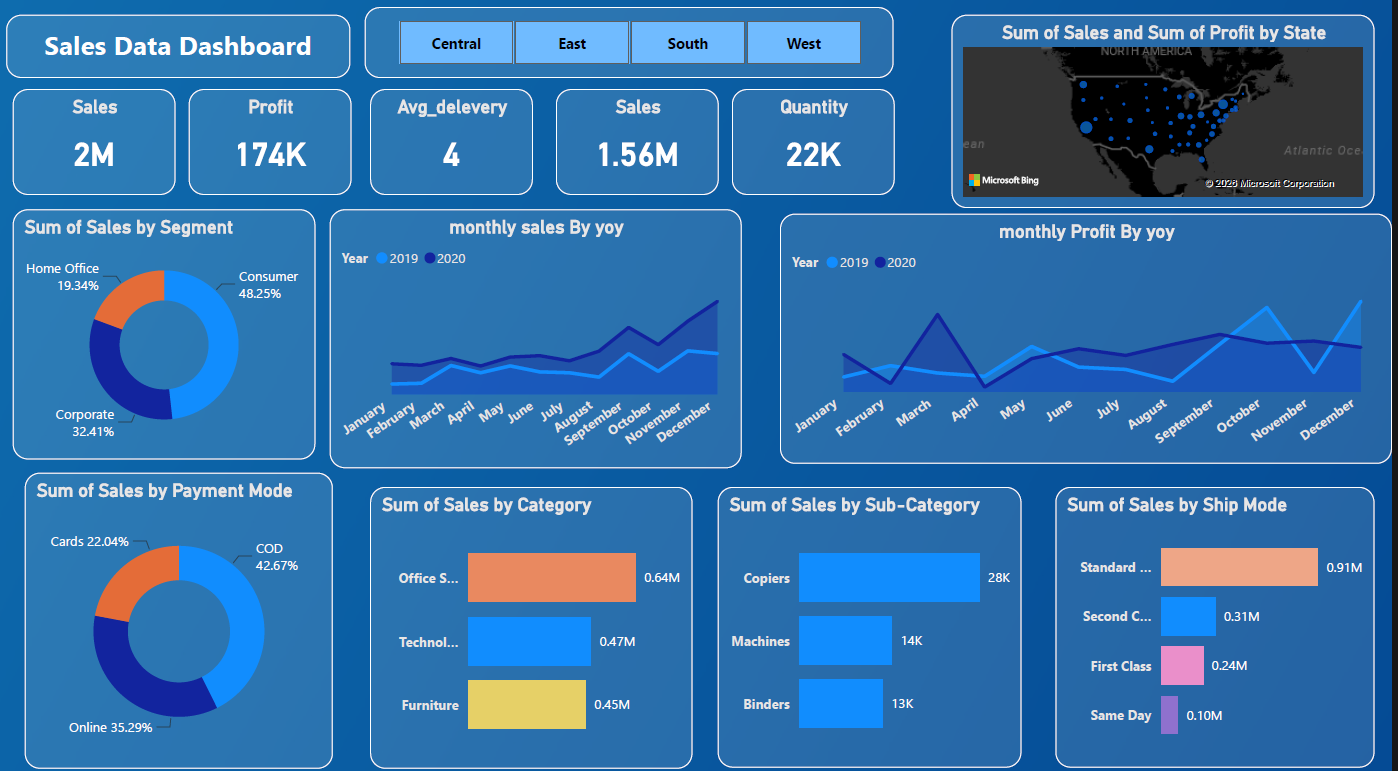

What the dashboard file says about the page in this screenshot:
{"tool":"powerbi","page":{"name":"Page 1","canvas":[1280,720],"ordinal":0},"visuals":[{"type":"clusteredBarChart","fields":{"Category":["SuperStore_Sales_Dataset.Category"],"Y":["Sum(SuperStore_Sales_Dataset.Sales)"]},"box":[345.3,445,294.8,258],"z":0},{"type":"clusteredBarChart","fields":{"Y":["Sum(SuperStore_Sales_Dataset.Sales)"],"Category":["SuperStore_Sales_Dataset.Sub-Category"]},"box":[663.3,445,278.4,256.6],"z":1000},{"type":"clusteredBarChart","fields":{"Category":["SuperStore_Sales_Dataset.Ship Mode"],"Y":["Sum(SuperStore_Sales_Dataset.Sales)"]},"box":[971.8,445,292.1,256.6],"z":2000},{"type":"areaChart","title":"monthly sales By yoy","fields":{"Y":["Sum(SuperStore_Sales_Dataset.Sales)"],"Category":["SuperStore_Sales_Dataset.Order Date.Variation.Date Hierarchy.Month"],"Series":["SuperStore_Sales_Dataset.Order Date.Variation.Date Hierarchy.Year"]},"box":[308.5,191.1,376.7,237.5],"z":3000},{"type":"areaChart","title":"monthly Profit By yoy","fields":{"Category":["SuperStore_Sales_Dataset.Order Date.Variation.Date Hierarchy.Month"],"Series":["SuperStore_Sales_Dataset.Order Date.Variation.Date Hierarchy.Year"],"Y":["Sum(SuperStore_Sales_Dataset.Profit)"]},"box":[720.2,195.4,559.8,229.2],"z":4000},{"type":"donutChart","fields":{"Category":["SuperStore_Sales_Dataset.Segment"],"Y":["Sum(SuperStore_Sales_Dataset.Sales)"]},"box":[17.7,191.1,277.1,229.3],"z":5000},{"type":"donutChart","fields":{"Y":["Sum(SuperStore_Sales_Dataset.Sales)"],"Category":["SuperStore_Sales_Dataset.Payment Mode"]},"box":[29,431.9,282.3,271.4],"z":6000},{"type":"card","title":"Sales","fields":{"Values":["Sum(SuperStore_Sales_Dataset.Sales)"]},"box":[17.7,80.5,148.8,96.9],"z":7000},{"type":"card","title":"Profit","fields":{"Values":["Sum(SuperStore_Sales_Dataset.Profit)"]},"box":[178.8,80.5,148.8,96.9],"z":8000},{"type":"card","title":"Avg_delevery","fields":{"Values":["Avg(SuperStore_Sales_Dataset.Avg-delevery)"]},"box":[345.3,80.5,148.8,96.9],"z":9000},{"type":"card","title":"Sales","fields":{"Values":["Sum(SuperStore_Sales_Dataset.Sales)"]},"box":[514.6,80.5,148.8,96.9],"z":10000},{"type":"card","title":"Quantity","fields":{"Values":["Sum(SuperStore_Sales_Dataset.Quantity)"]},"box":[675.6,80.5,148.8,96.9],"z":11000},{"type":"slicer","fields":{"Values":["SuperStore_Sales_Dataset.Region"]},"box":[340.2,6,483.8,65.1],"z":12000},{"type":"textbox","box":[12.1,13.3,314.9,57.9],"z":13000},{"type":"map","fields":{"Category":["SuperStore_Sales_Dataset.State"],"Size":["Sum(SuperStore_Sales_Dataset.Sales)"]},"box":[877.1,13.3,387.3,177.3],"z":14000}]}

Visuals, with their boxes in screenshot pixels (x1, y1, x2, y2), scaled from the page's 1280x720 canvas onto the 1398x771 screenshot:
clusteredBarChart - SuperStore_Sales_Dataset.Category x Sum(SuperStore_Sales_Dataset.Sales): <region>377, 477, 699, 753</region>
clusteredBarChart - Sum(SuperStore_Sales_Dataset.Sales) x SuperStore_Sales_Dataset.Sub-Category: <region>724, 477, 1029, 751</region>
clusteredBarChart - SuperStore_Sales_Dataset.Ship Mode x Sum(SuperStore_Sales_Dataset.Sales): <region>1061, 477, 1380, 751</region>
"monthly sales By yoy" areaChart: <region>337, 205, 748, 459</region>
"monthly Profit By yoy" areaChart: <region>787, 209, 1397, 455</region>
donutChart - SuperStore_Sales_Dataset.Segment x Sum(SuperStore_Sales_Dataset.Sales): <region>19, 205, 322, 450</region>
donutChart - Sum(SuperStore_Sales_Dataset.Sales) x SuperStore_Sales_Dataset.Payment Mode: <region>32, 462, 340, 753</region>
"Sales" card: <region>19, 86, 182, 190</region>
"Profit" card: <region>195, 86, 358, 190</region>
"Avg_delevery" card: <region>377, 86, 540, 190</region>
"Sales" card: <region>562, 86, 725, 190</region>
"Quantity" card: <region>738, 86, 900, 190</region>
slicer - SuperStore_Sales_Dataset.Region: <region>372, 6, 900, 76</region>
textbox: <region>13, 14, 357, 76</region>
map - SuperStore_Sales_Dataset.State x Sum(SuperStore_Sales_Dataset.Sales): <region>958, 14, 1381, 204</region>
